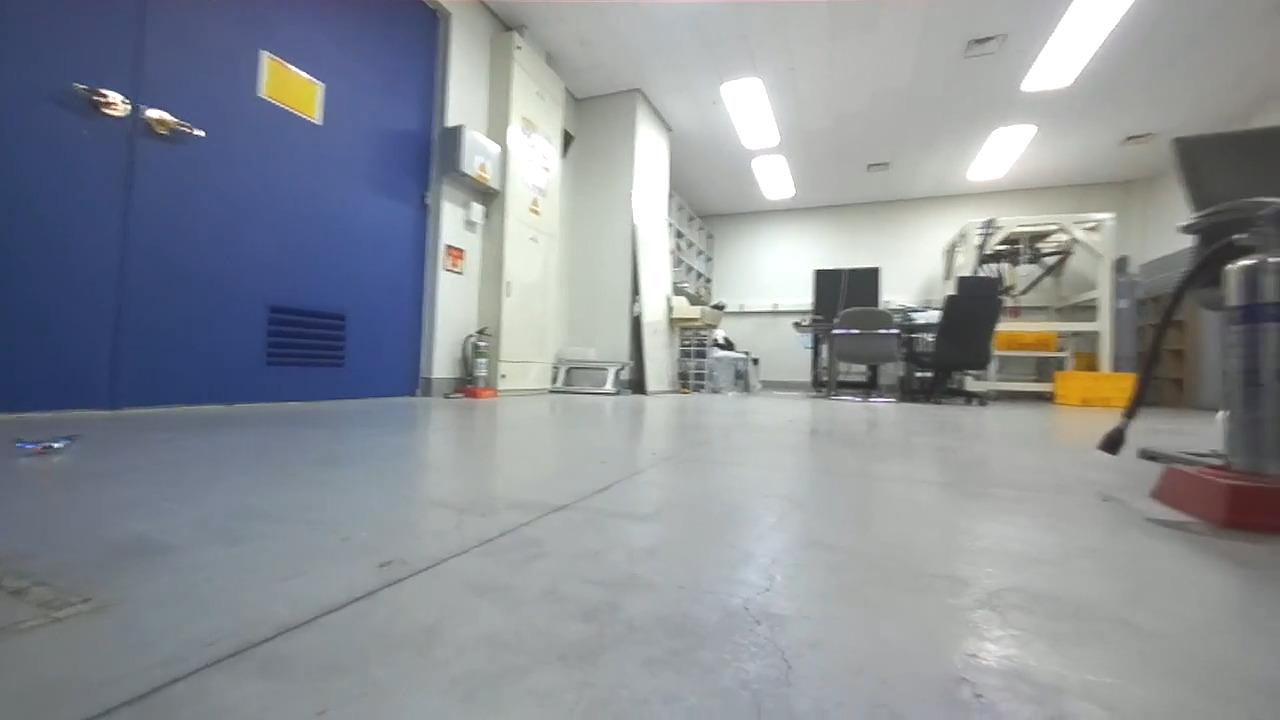crazyflie: (14, 431, 76, 461)
